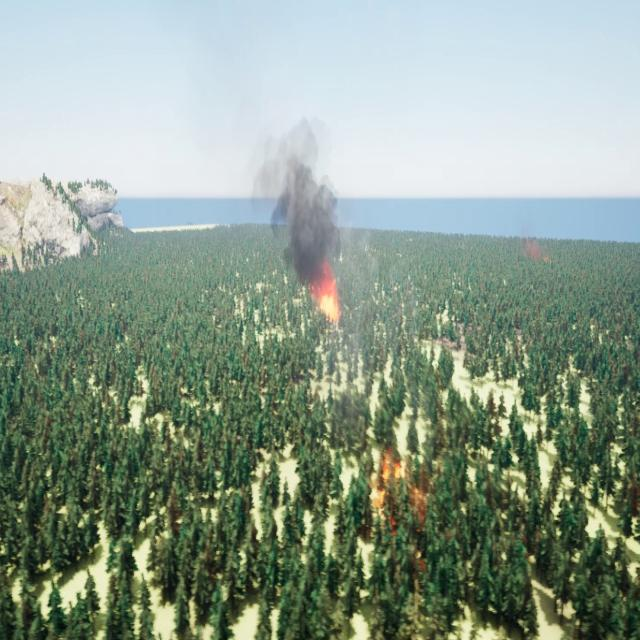fire: (371, 449, 431, 562), (302, 259, 340, 322)
smoke: (247, 112, 345, 264), (521, 231, 551, 265)
